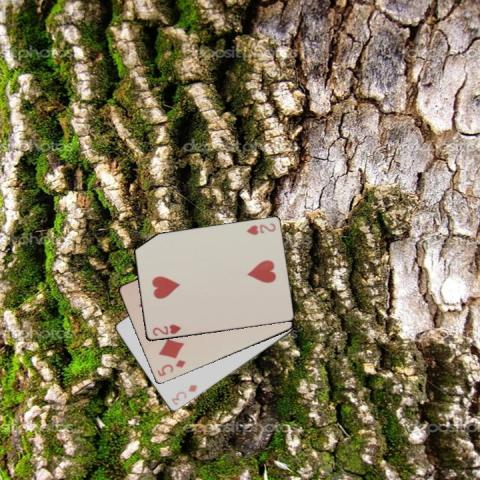2h: (149, 321, 182, 338), (243, 220, 276, 237)
3d: (168, 382, 198, 407)
5d: (154, 357, 187, 378)
